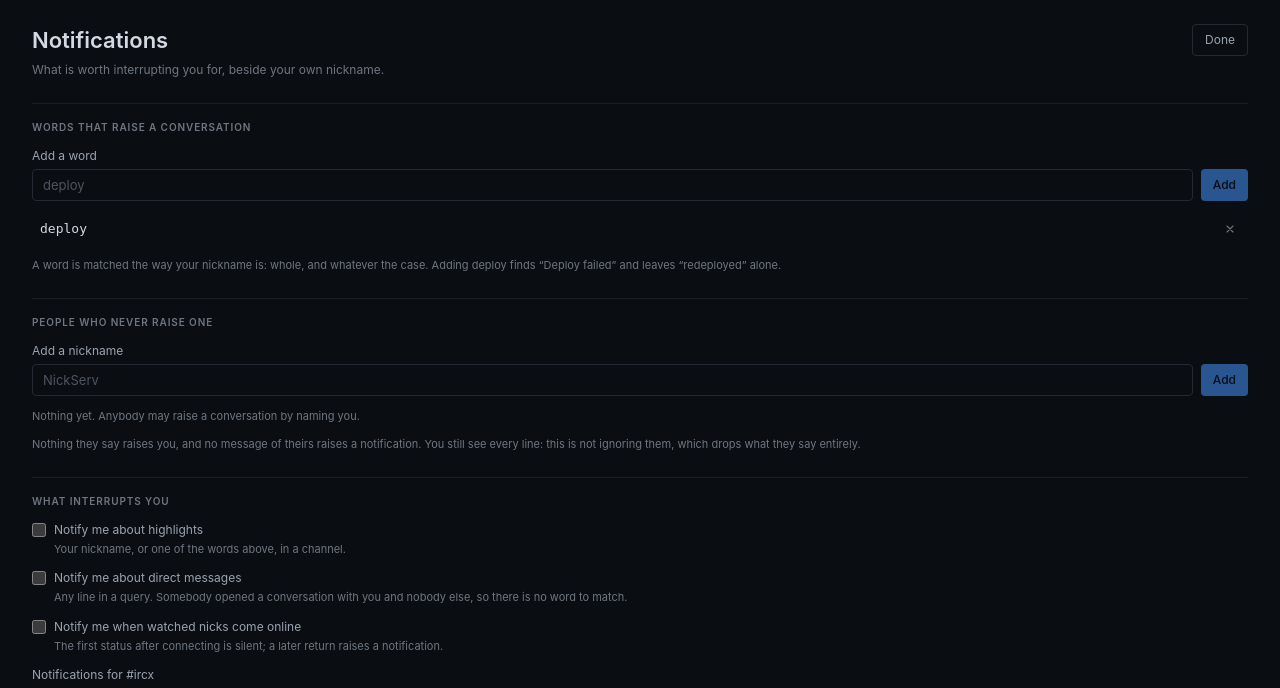
Test: the notifications page › refuses a word already on the list, whatever the case
The image size is (1280, 688).
Type "Deploy" into the field labelled "Add a word".
click(612, 185); type("Deploy")  # box [32,169,1193,201]
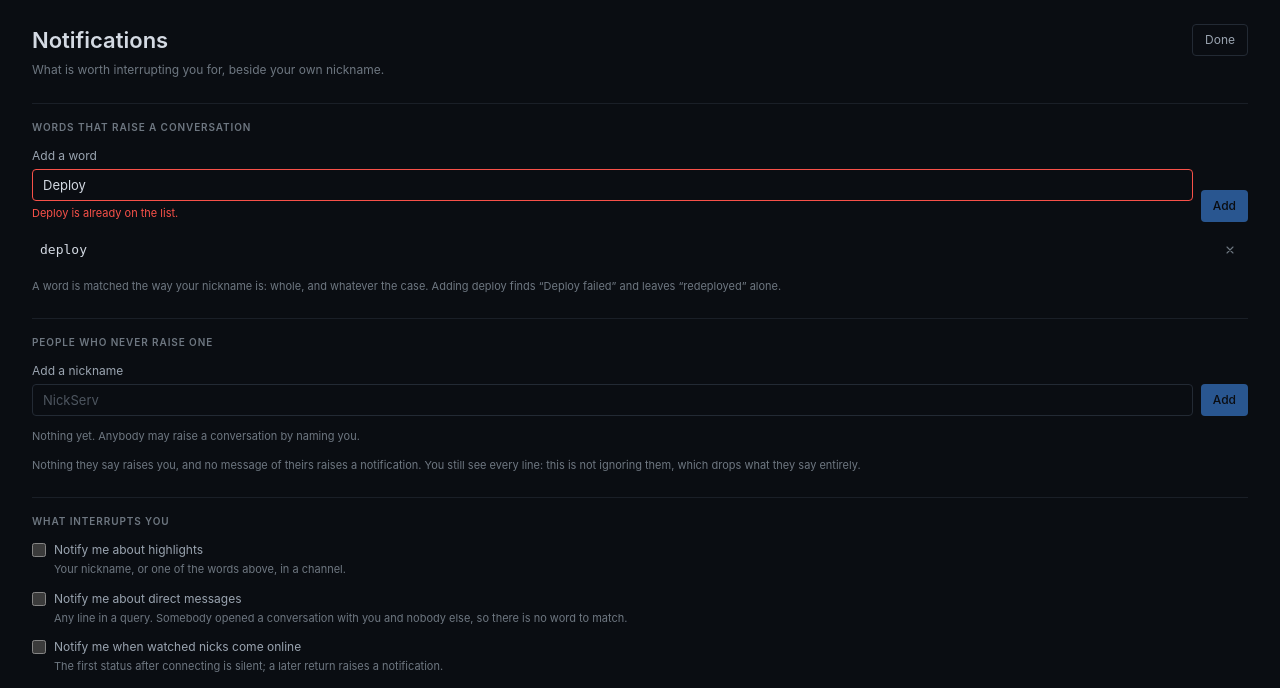
Expected: the button with aria-label "Add word" is disabled, [1201,190,1248,222]
Expected: the text "Deploy is already on the list." is shown, [32,206,178,220]
